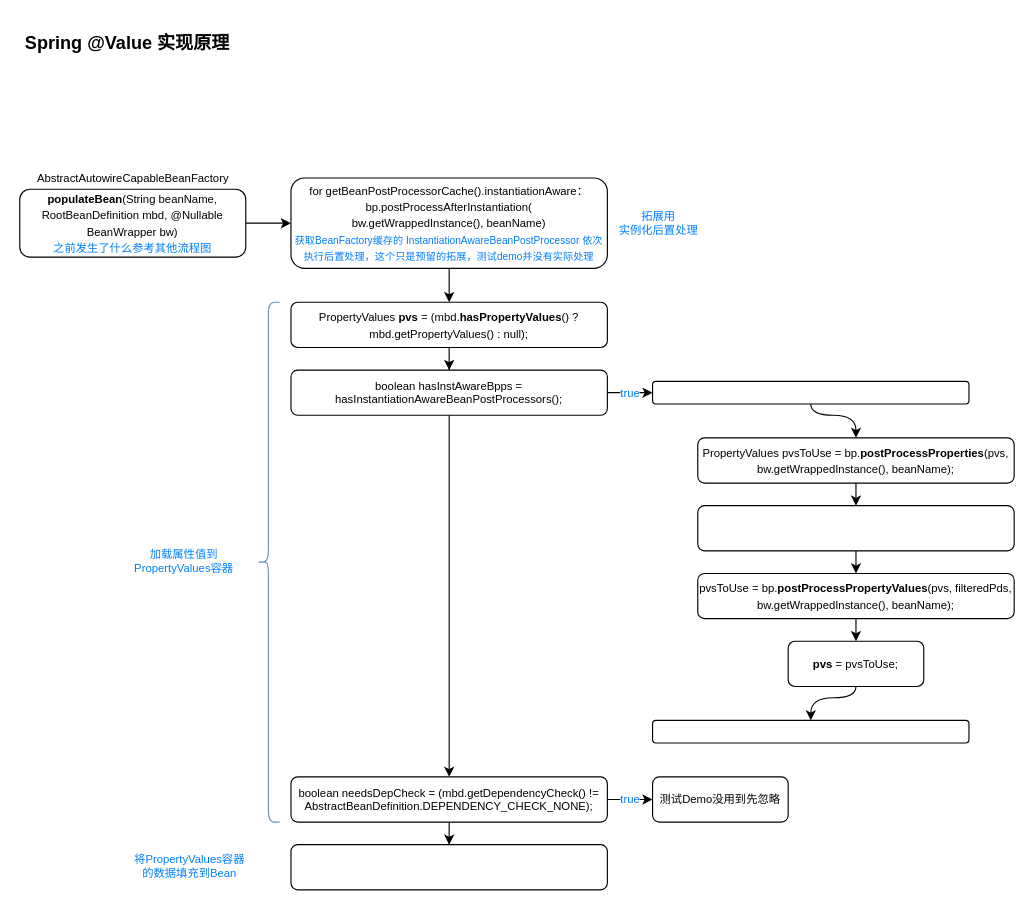
Some shapes in this 1034 by 910 pixel diagram are drawn without their labels. The shapes that lost their labels are listed below. From the top down, each one's centre as x and y in pixels, then its label:
At point 810,392: "for getBeanPostProcessorCache().instantiationAware：".
At point 855,528: "filteredPds = filterPropertyDescriptorsForDependencyCheck(bw, mbd.allowCaching);".
At point 810,731: "for end".
At point 448,867: "pvs != null && applyPropertyValues (beanName, mbd, bw, pvs )".
